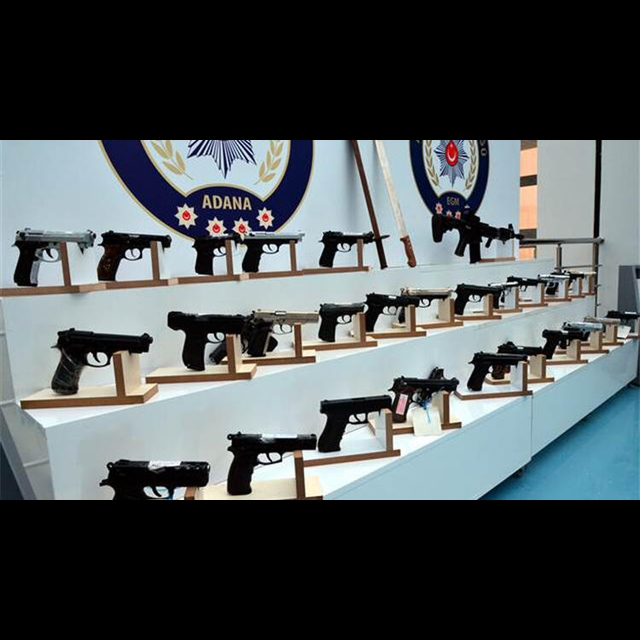SILAH: (45, 323, 156, 397), (222, 416, 319, 499), (158, 303, 256, 373), (10, 221, 98, 290), (315, 389, 393, 465), (96, 224, 174, 286), (390, 370, 463, 428), (241, 220, 306, 276), (459, 342, 526, 392), (186, 224, 243, 277), (317, 224, 377, 272)
